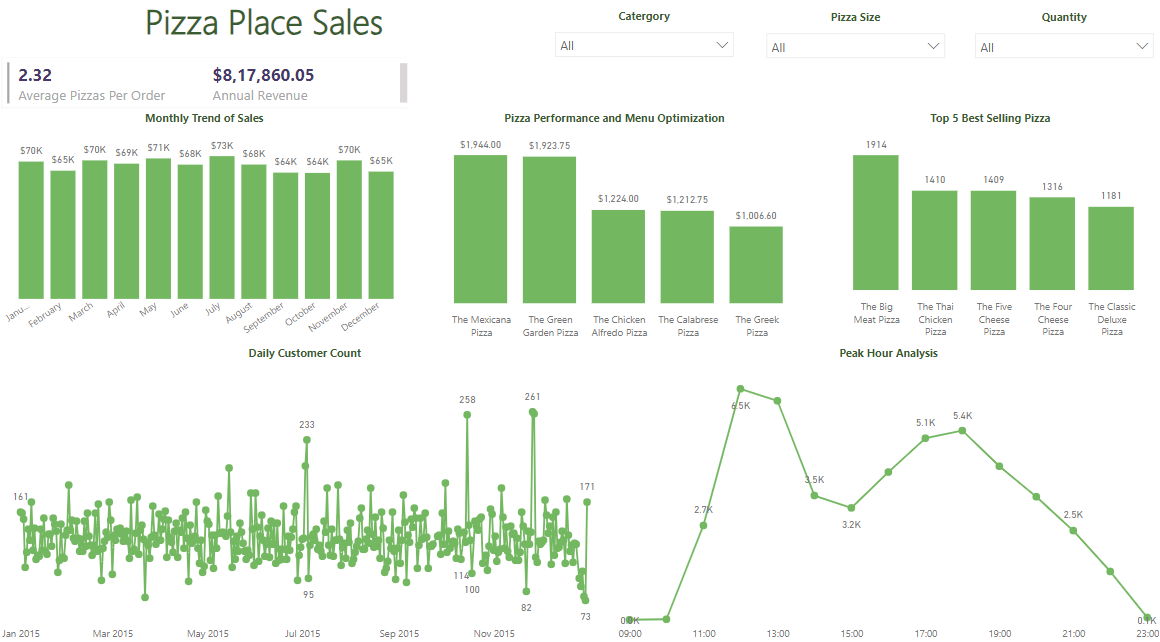

What the dashboard file says about the page in this screenshot:
{"tool":"powerbi","page":{"name":"Pizza Place Sales","canvas":[1280,720],"ordinal":6},"visuals":[{"type":"lineChart","title":"Daily Customer Count","fields":{"Y":["CountNonNull(PizzaDataset.order_id)"],"Category":["PizzaDataset.date.Variation.Date Hierarchy.Year","PizzaDataset.date.Variation.Date Hierarchy.Quarter","PizzaDataset.date.Variation.Date Hierarchy.Month","PizzaDataset.date.Variation.Date Hierarchy.Day"]},"box":[0,386.7,675.9,333.4],"z":0},{"type":"lineChart","title":"Peak Hour Analysis","fields":{"Category":["PizzaDataset.time (bins)"],"Y":["CountNonNull(PizzaDataset.order_id)"]},"box":[675.9,386.7,604.4,333.4],"z":1000},{"type":"clusteredColumnChart","title":"Monthly Trend of Sales","fields":{"Category":["PizzaDataset.date.Variation.Date Hierarchy.Month"],"Y":["PizzaDataset.Total_sales"]},"box":[0,129,455,258],"z":2000},{"type":"columnChart","title":"Pizza Performance and Menu Optimization","fields":{"Category":["PizzaDataset.name"],"Y":["PizzaDataset.Total_sales"]},"box":[455.2,129.4,444.5,258.8],"z":3000},{"type":"multiRowCard","fields":{"Values":["PizzaDataset.AveragePizzasPerOrder","PizzaDataset.Total_sales"]},"box":[0,65.5,455.2,65.5],"z":4000},{"type":"textbox","title":"Pizza","box":[0,0,586.1,65.5],"z":5000},{"type":"slicer","title":"Catergory","fields":{"Values":["PizzaDataset.category"]},"box":[602.9,16.7,216.2,80.7],"z":6000},{"type":"slicer","title":"Pizza Size","fields":{"Values":["PizzaDataset.size"]},"box":[834.3,18.3,216.2,80.7],"z":7000},{"type":"slicer","title":"Quantity","fields":{"Values":["PizzaDataset.quantity"]},"box":[1064.1,18.3,216.2,80.7],"z":8000},{"type":"columnChart","title":"Top 5 Best Selling Pizza","fields":{"Y":["Sum(PizzaDataset.quantity)"],"Category":["PizzaDataset.name"]},"box":[899.7,129.4,380.6,257.3],"z":9000}]}

Visuals, with their boxes in screenshot pixels (x1, y1, x2, y2), scaled from the page's 1280x720 canvas onto the 1160x642 screenshot:
"Daily Customer Count" lineChart: bbox=(0, 345, 613, 641)
"Peak Hour Analysis" lineChart: bbox=(613, 345, 1159, 641)
"Monthly Trend of Sales" clusteredColumnChart: bbox=(0, 115, 412, 345)
"Pizza Performance and Menu Optimization" columnChart: bbox=(413, 115, 815, 346)
multiRowCard - PizzaDataset.AveragePizzasPerOrder x PizzaDataset.Total_sales: bbox=(0, 58, 413, 117)
"Pizza" textbox: bbox=(0, 0, 531, 58)
"Catergory" slicer: bbox=(546, 15, 742, 87)
"Pizza Size" slicer: bbox=(756, 16, 952, 88)
"Quantity" slicer: bbox=(964, 16, 1159, 88)
"Top 5 Best Selling Pizza" columnChart: bbox=(815, 115, 1159, 345)
